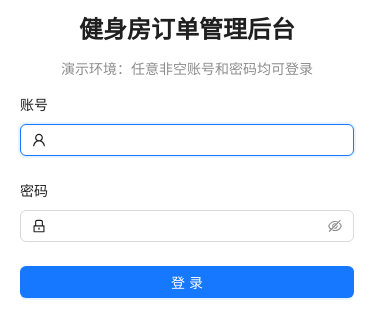
it: 表单验证 › 未填写直接点登录不能提交
Click the button "登 录": click(187, 282) [20,266,354,298]
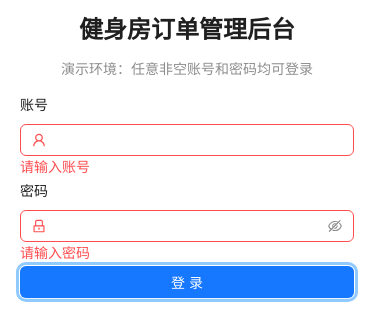
Check: the text "请输入账号" is shown, box [20,158,90,175]
Check: the text "请输入密码" is shown, box [20,244,90,261]
